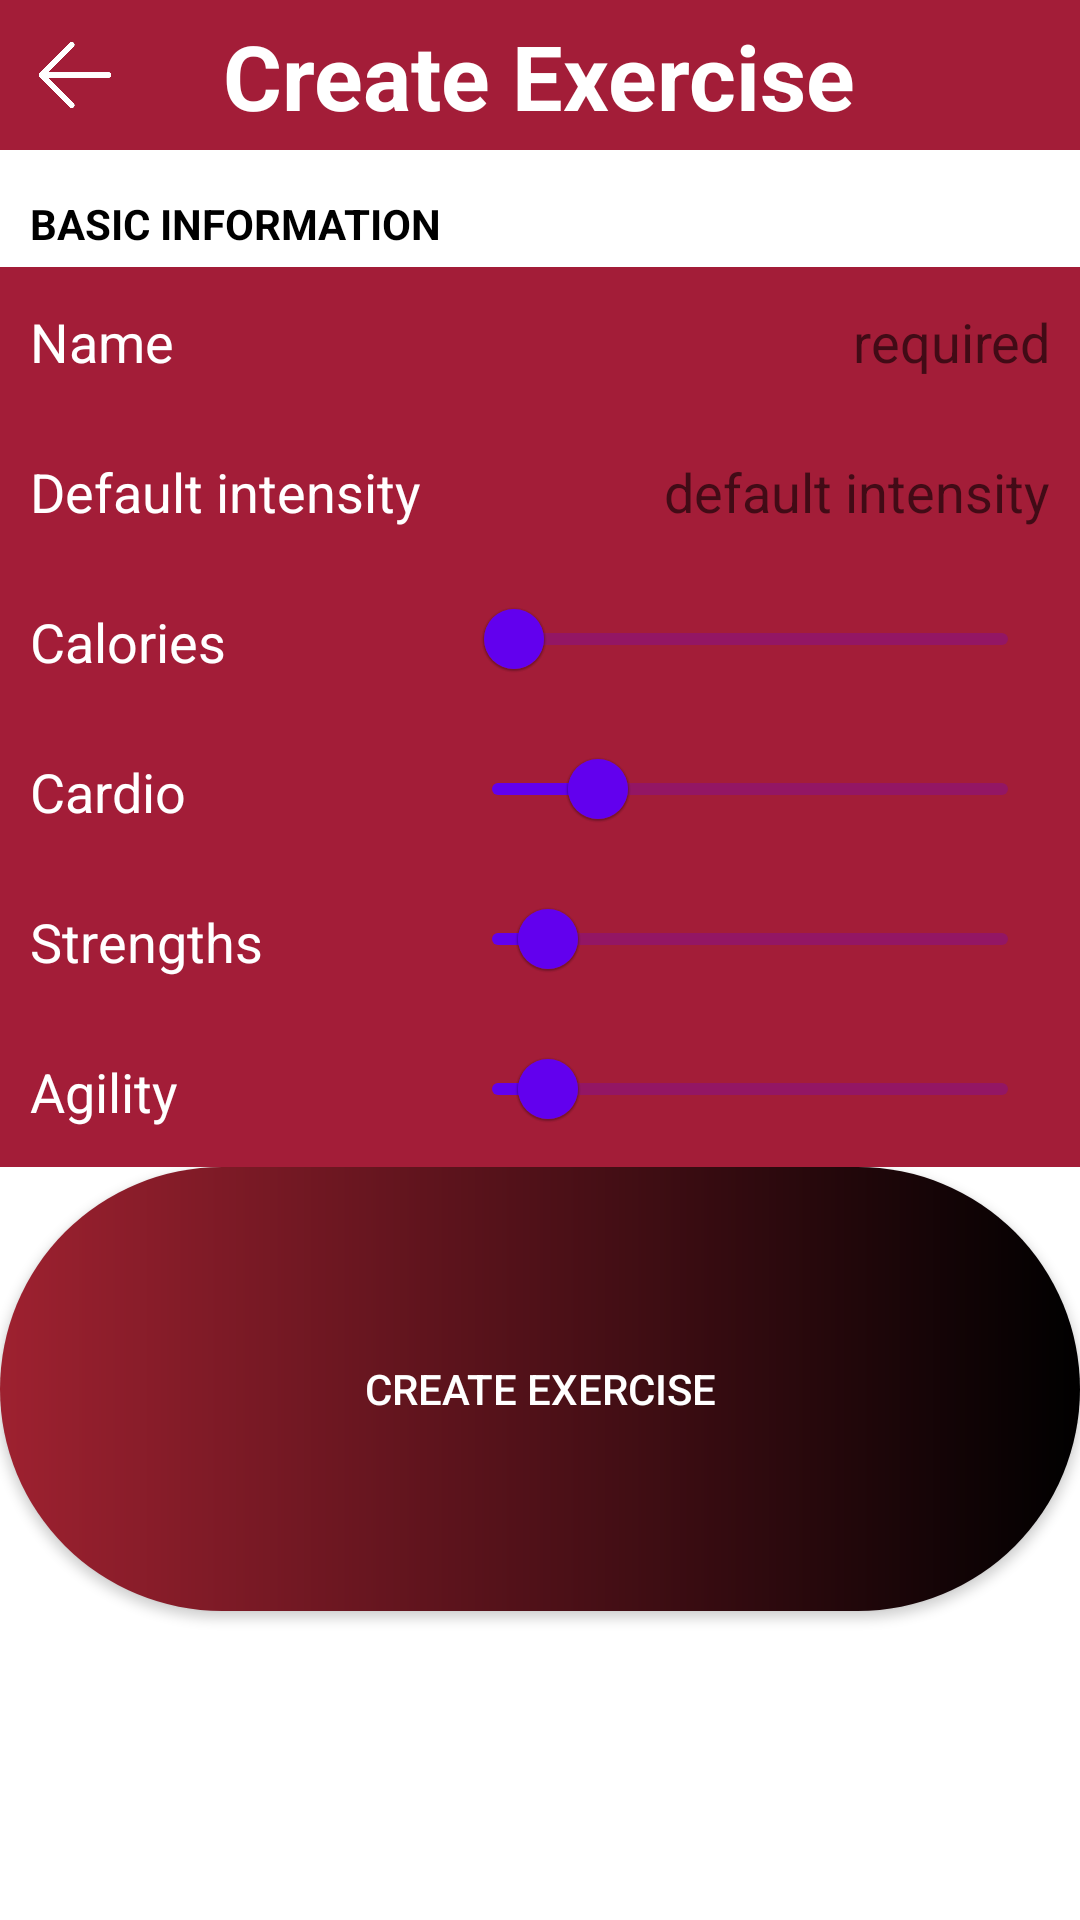

Icon click points for this 1080 x 1920 phone screenshot, format point (x, y):
back: point (75, 75)
